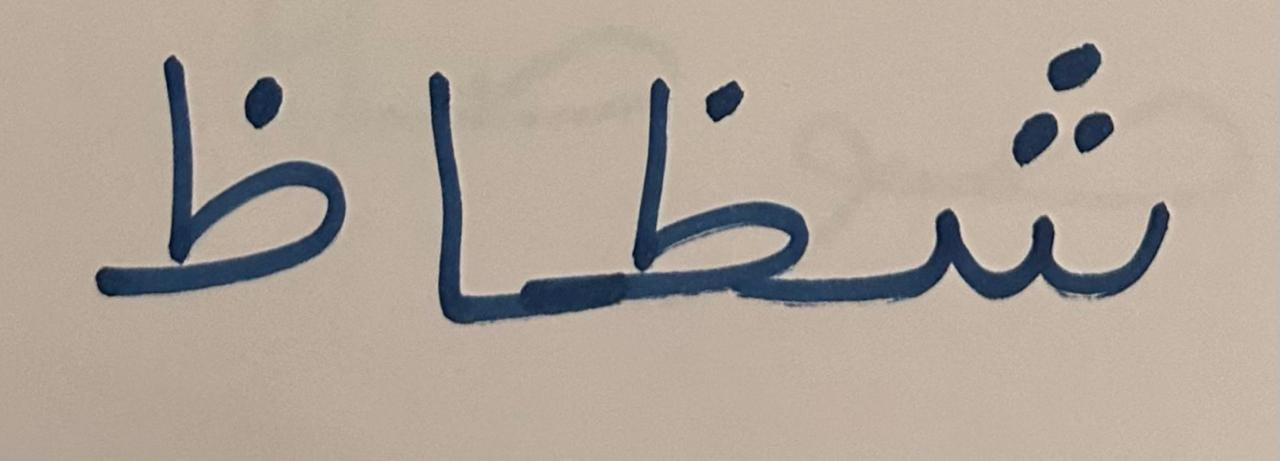alef: (380, 27, 549, 367)
tah: (857, 0, 1201, 369)
zain: (51, 9, 373, 356), (555, 46, 850, 366)
